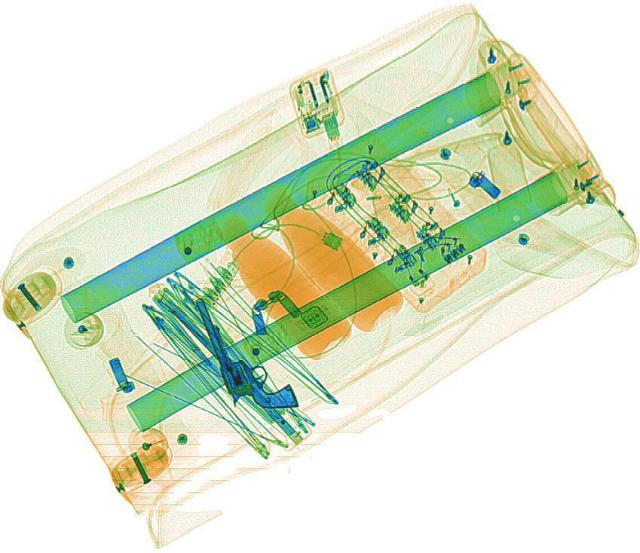Gun: (192, 284, 296, 417)
